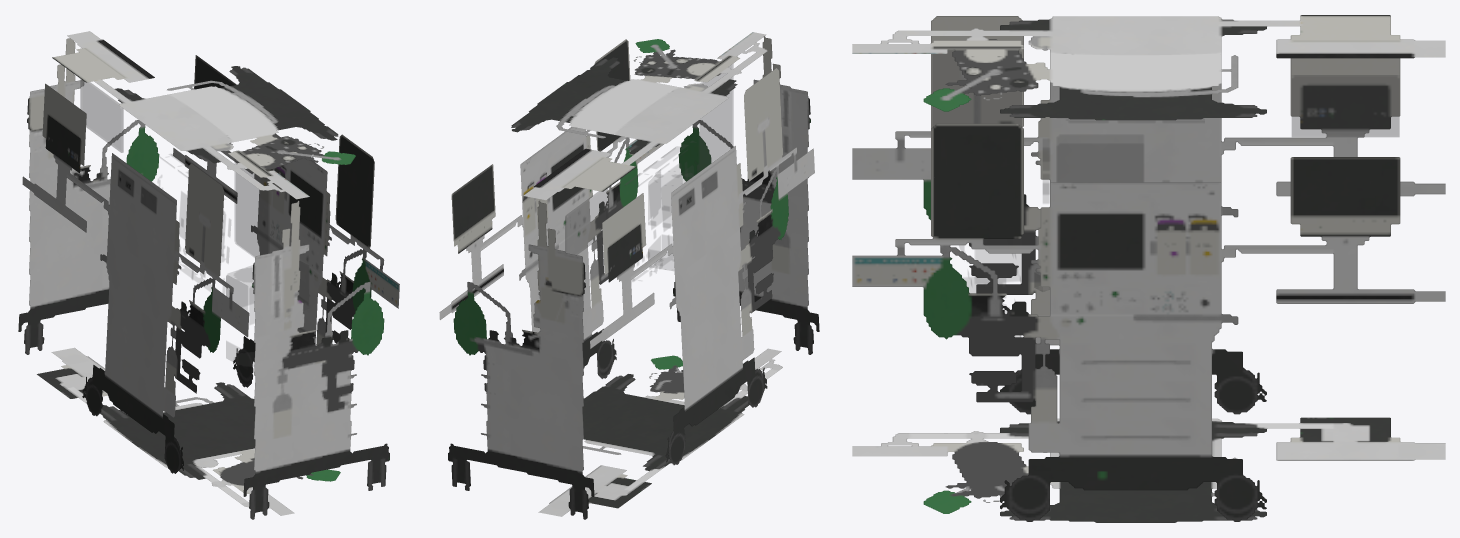
File: anesthesia-machine-512.glb
3 renders of one model, left to right at view 1: azimuth 30°, elevation 25°; view 2: azimuth 150°, elevation 25°; view 3: azimuth 270°, elevation 25°, orthographic. The views are drawn at different scales.
Visible parts, largest first — view 1: box_impostor (×5); view 2: box_impostor (×5); view 3: box_impostor (×5).
Part boxes in pixels (x1,y1,x2,y2): box_impostor (×5): [18, 31, 399, 519]; box_impostor (×5): [439, 32, 819, 519]; box_impostor (×5): [852, 15, 1445, 522].
Size of the model in its own units: 0.9624 by 1.78 by 2.26.
6 materials, 6 textured.
